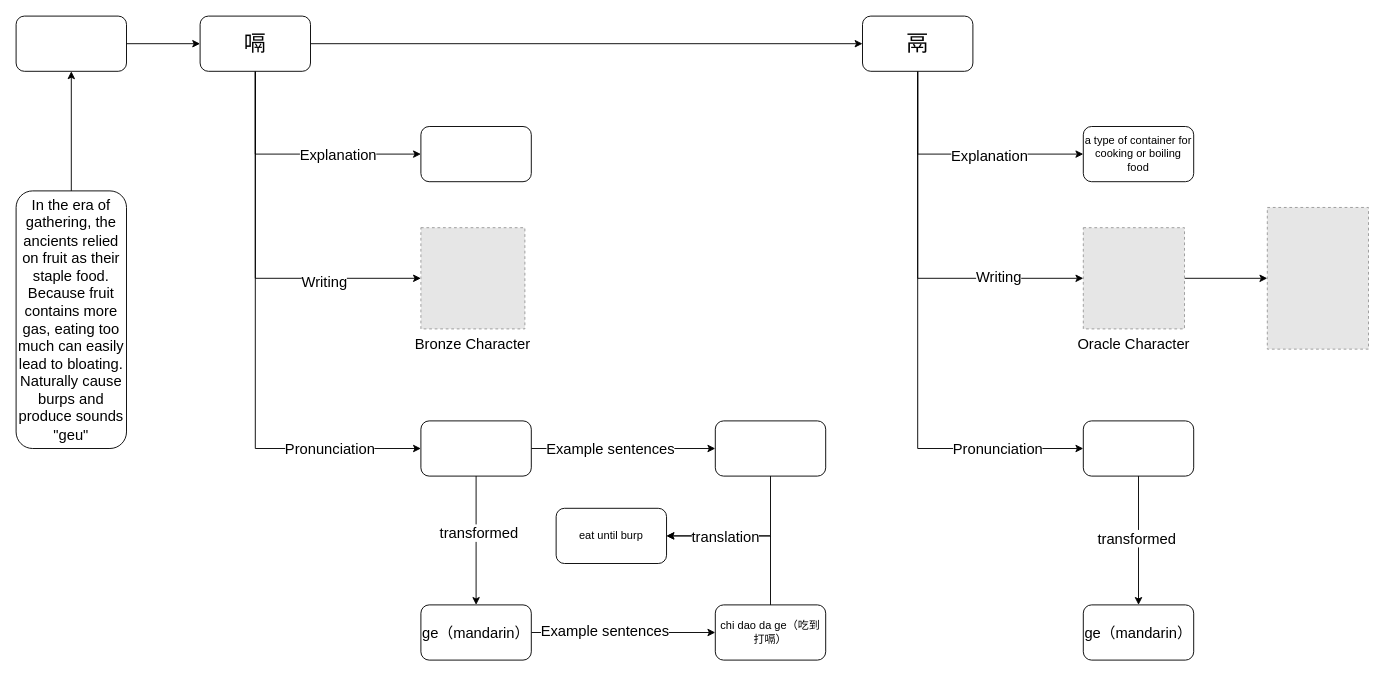
Some shapes in this 1385 by 676 pixel diagram are drawn without their labels. Grey dashed boxes stand in for pictures. Each missing label, with the centre of its shape:
burp from eating too much: (475,154)
geu: (70,43)
geu OR ga（wu）: (1138,448)
geu（wu）: (475,448)
qye dao geu a geu（吃到嗝啊嗝）: (770,448)
